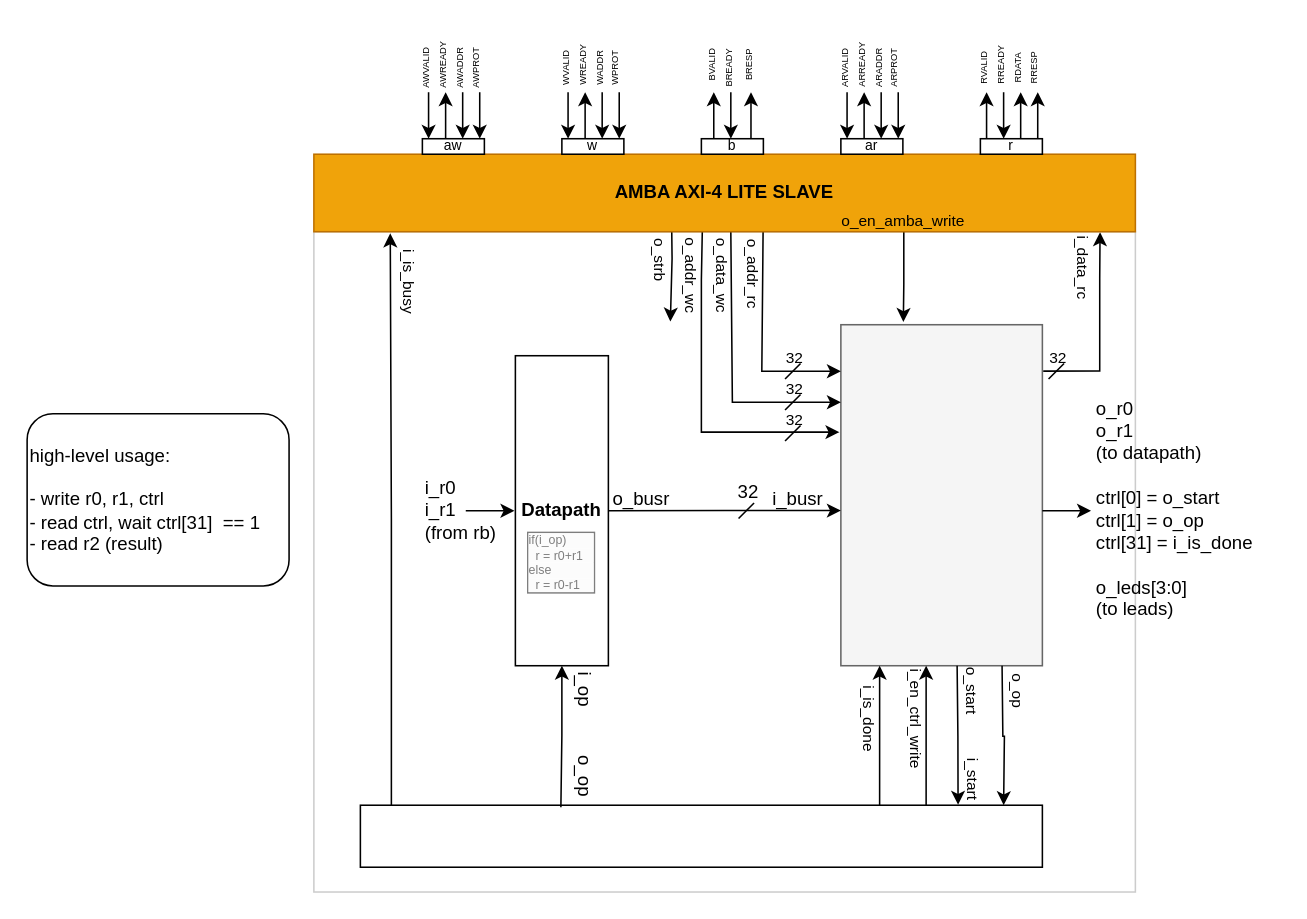
Some shapes in this 1307 by 919 pixel diagram are drawn without their labels. The shapes that lost their labels are listed below. From the top down, each one's centre as x and y in pixels, then its label:
the point at 940,494: Reg. Bank 0x00: r0 0x04: r1 0x08: r2 0x0C: ctrl 0x10: leds
the point at 700,835: Control
